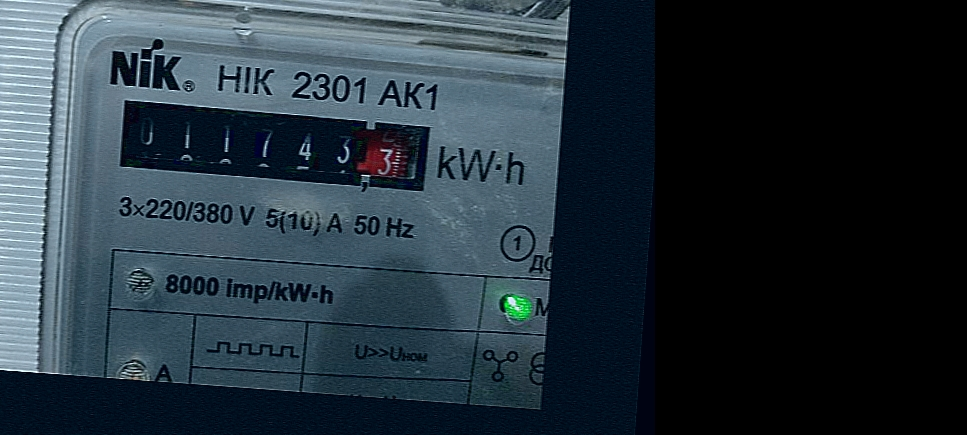0: (135, 111, 156, 148)
1: (218, 118, 235, 153), (181, 115, 193, 149)
3: (331, 129, 353, 165), (374, 144, 395, 178)
4: (294, 126, 314, 161)
7: (255, 122, 276, 158)
screen: (103, 85, 443, 204)
